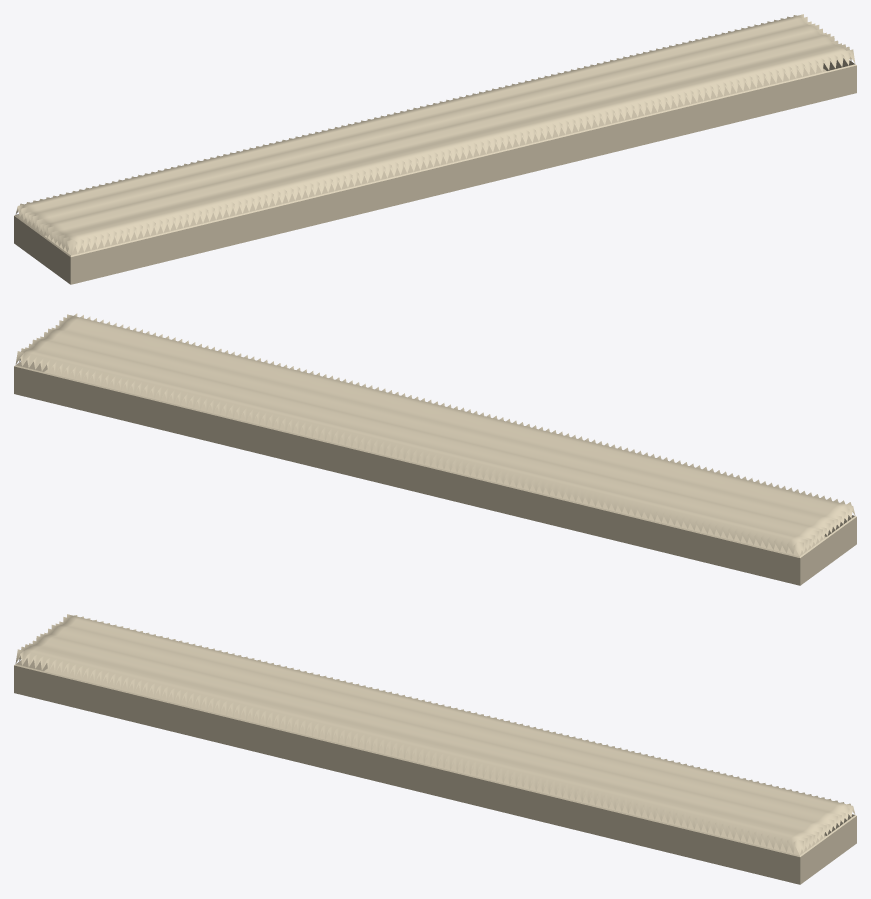
Rendered from mahsulot.glb.
3 renders of one model, top to bottom at view 1: azimuth 30°, elevation 25°; view 2: azimuth 150°, elevation 25°; view 3: azimuth 330°, elevation 25°, orthographic.
Visible parts, largest first — view 1: mahsulot; view 2: mahsulot; view 3: mahsulot.
Boxes of the visible parts, x1=… form: mahsulot: x1=14, y1=14, x2=856, y2=284; mahsulot: x1=14, y1=313, x2=856, y2=585; mahsulot: x1=14, y1=614, x2=856, y2=884.
Size of the model in its own units: 1.2 by 0.0598 by 0.15.
